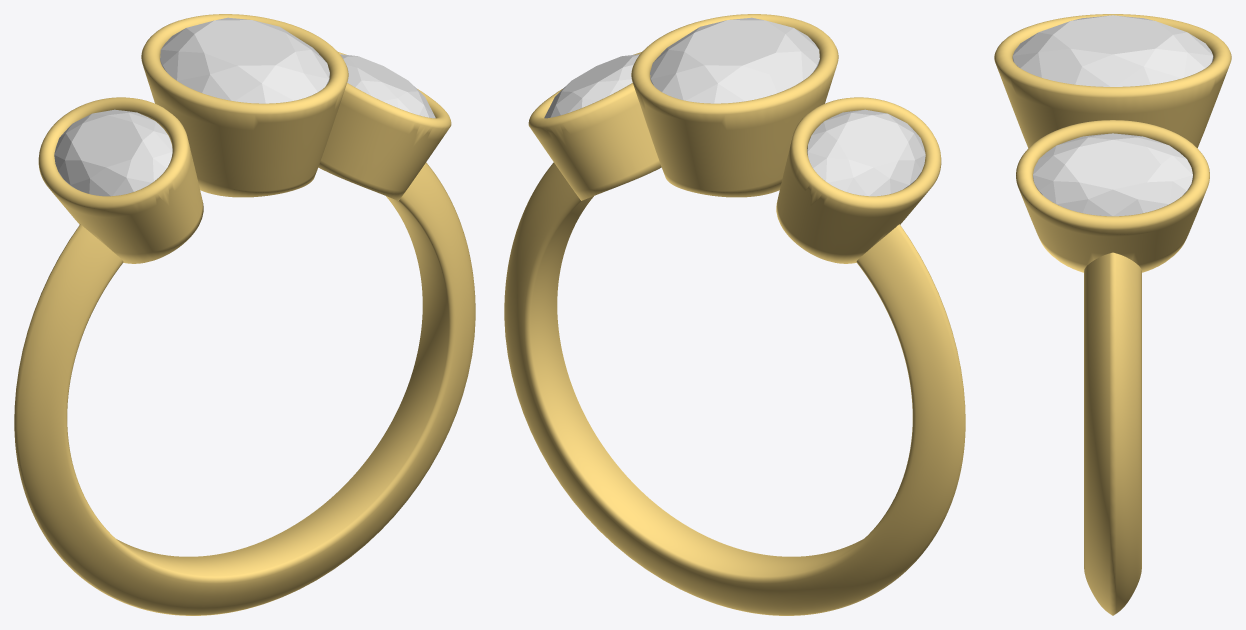
Rendered from diamond-oval-yellowgold-bezelset-knifeedge-3stone.glb.
3 renders of one model, left to right at view 1: azimuth 30°, elevation 25°; view 2: azimuth 150°, elevation 25°; view 3: azimuth 270°, elevation 25°, orthographic.
Visible parts, largest first — view 1: metal, stone.002, side.004, side.005; view 2: metal, stone.002, side.004, side.005; view 3: metal, stone.002, side.005.
Boxes of the visible parts, x1,y1,x2,y2 form: metal: (14,14,475,615); stone.002: (160,17,329,103); side.004: (54,109,172,196); side.005: (340,54,435,118); metal: (504,14,965,615); stone.002: (650,17,819,103); side.004: (807,109,925,196); side.005: (544,54,639,118); metal: (994,14,1231,615); stone.002: (1012,15,1213,86); side.005: (1033,133,1192,216).
Bounding box in the file's own units: 19.94 × 23.4 × 9.04.
